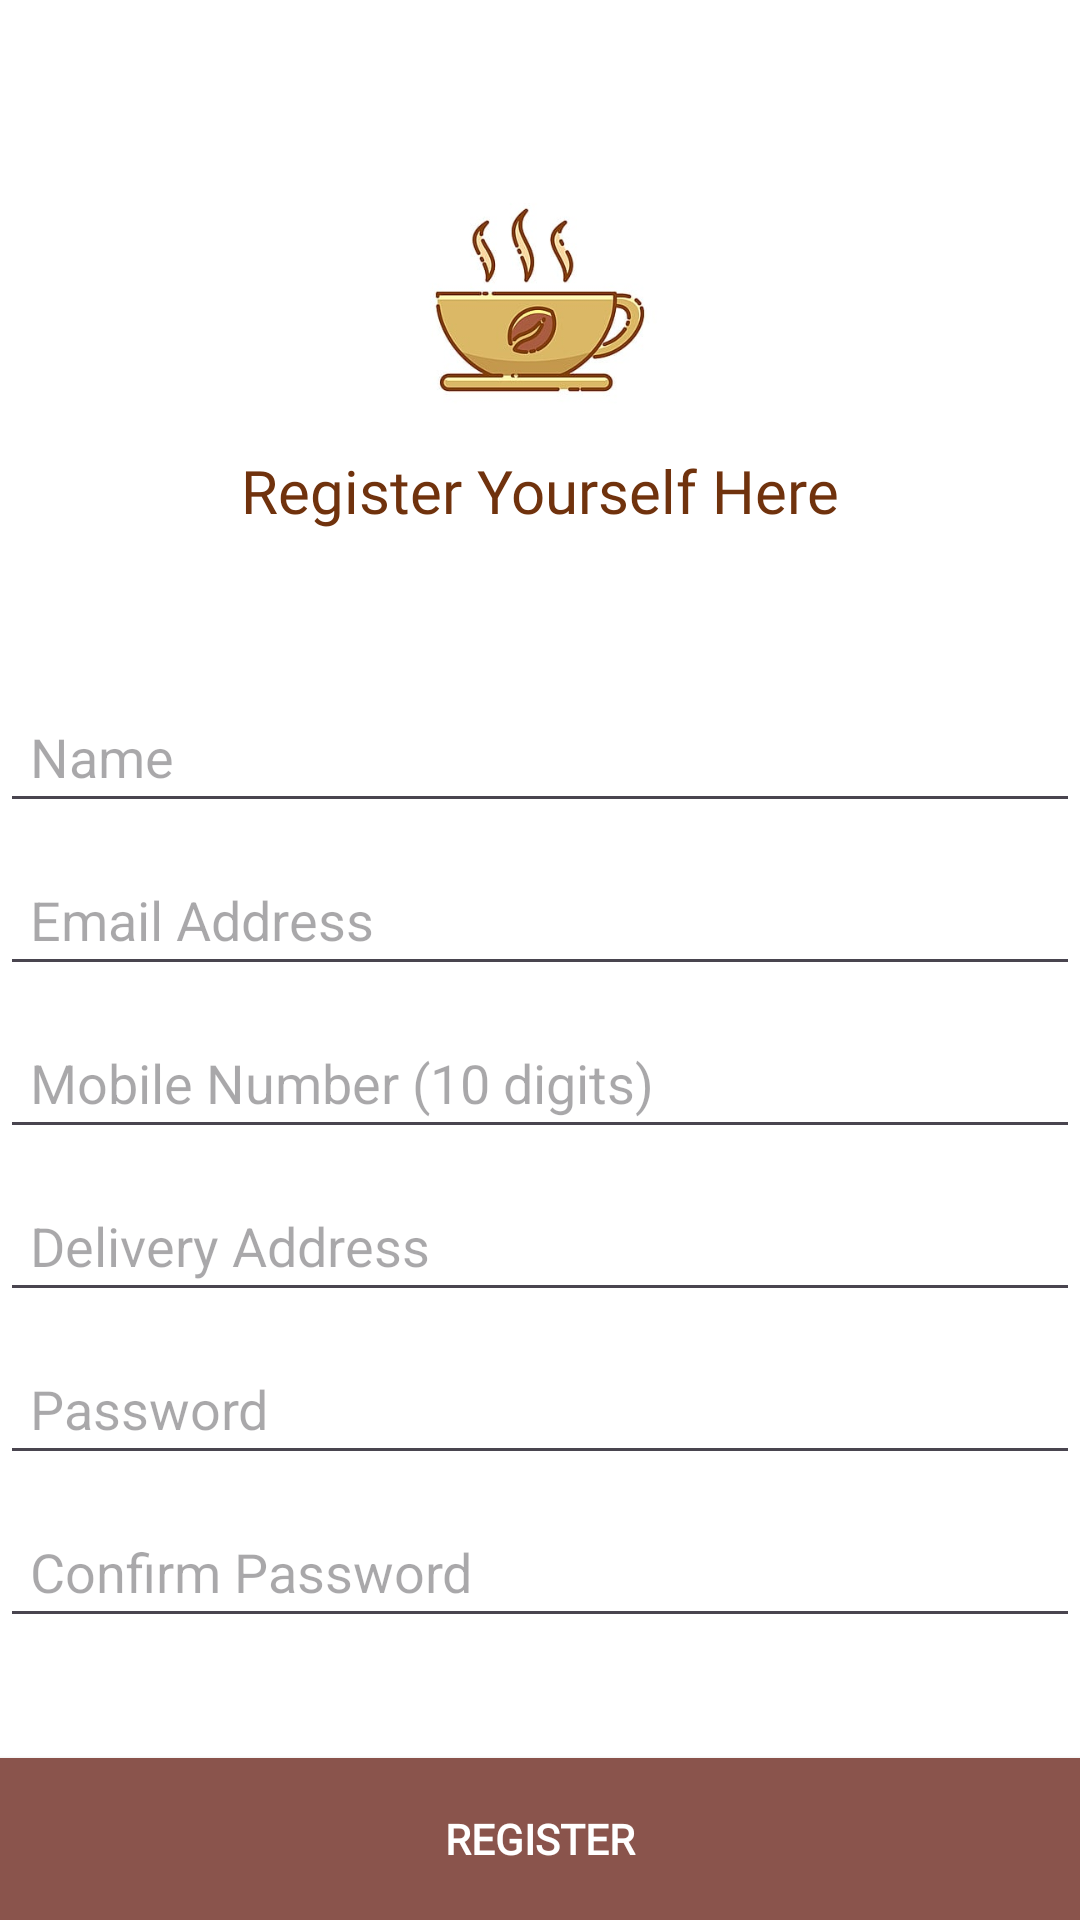

Screen size 1080px×1920px. Icon name, then its box in pixels as (x1, y1, x2, y2):
cup: (435, 208, 645, 392)
